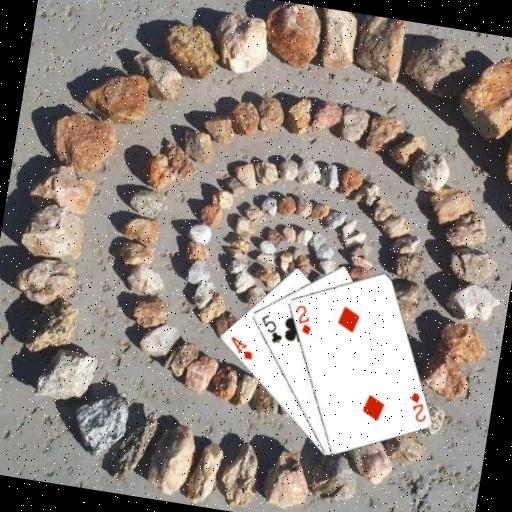2D: (288, 300, 316, 337), (403, 388, 431, 424)
5C: (254, 310, 286, 345)
AD: (223, 332, 256, 361)
